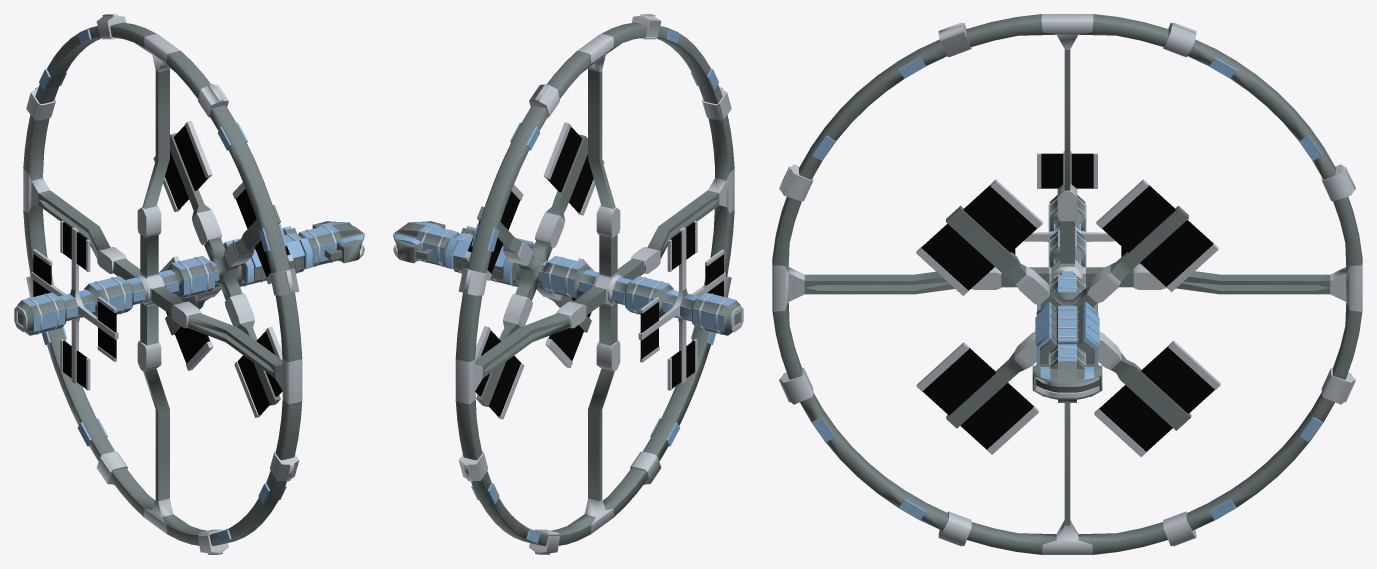
Rendered from Mothership6.fbx.
The picture shows the model from 3 angles, left to right: view 1: azimuth 30°, elevation 25°; view 2: azimuth 150°, elevation 25°; view 3: azimuth 270°, elevation 25°; orthographic projection. The views are drawn at different scales.
Visible parts, largest first — view 1: RearSolar; view 2: RearSolar; view 3: RearSolar.
Part boxes in pixels (<box>): RearSolar: <box>14,14,364,554</box>; RearSolar: <box>393,14,743,554</box>; RearSolar: <box>772,14,1362,554</box>.
Size of the model in its own units: 990 by 1342 by 1342.
